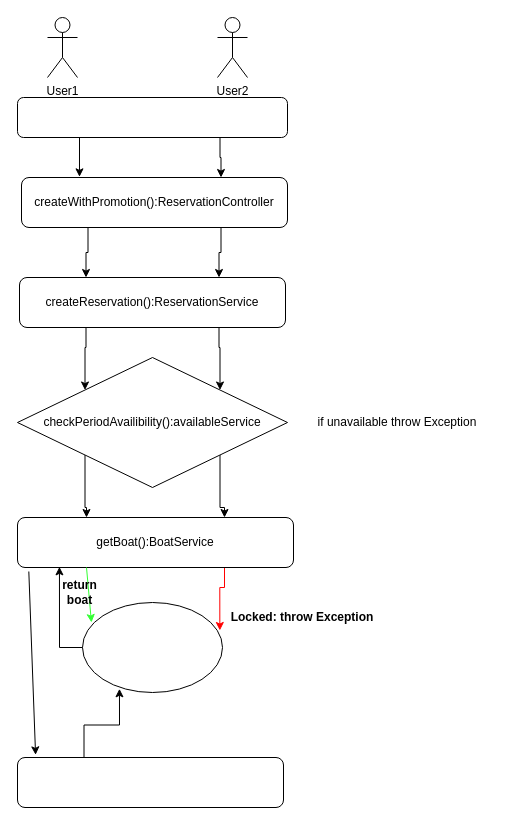
This 515x825 diagram has some shape labels left out. The centre of each missing label's shape, as x and y in pixels:
"CreateReservationWithPromotion" goes at pixel 152 117.
"Database" goes at pixel 152 647.
"save():ReservationRepository" goes at pixel 150 782.
